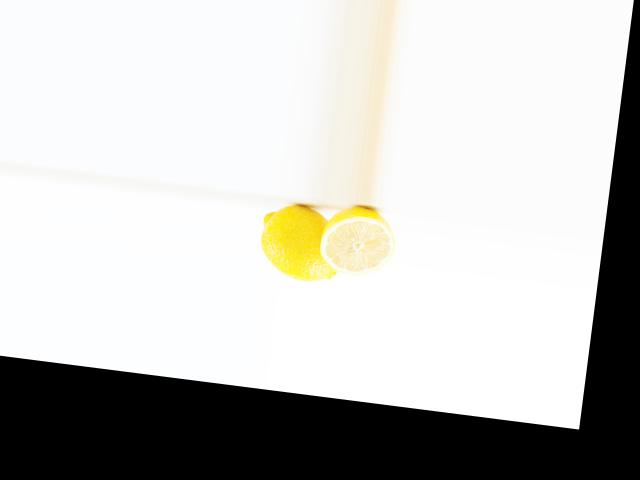lemon: (253, 192, 356, 284)
